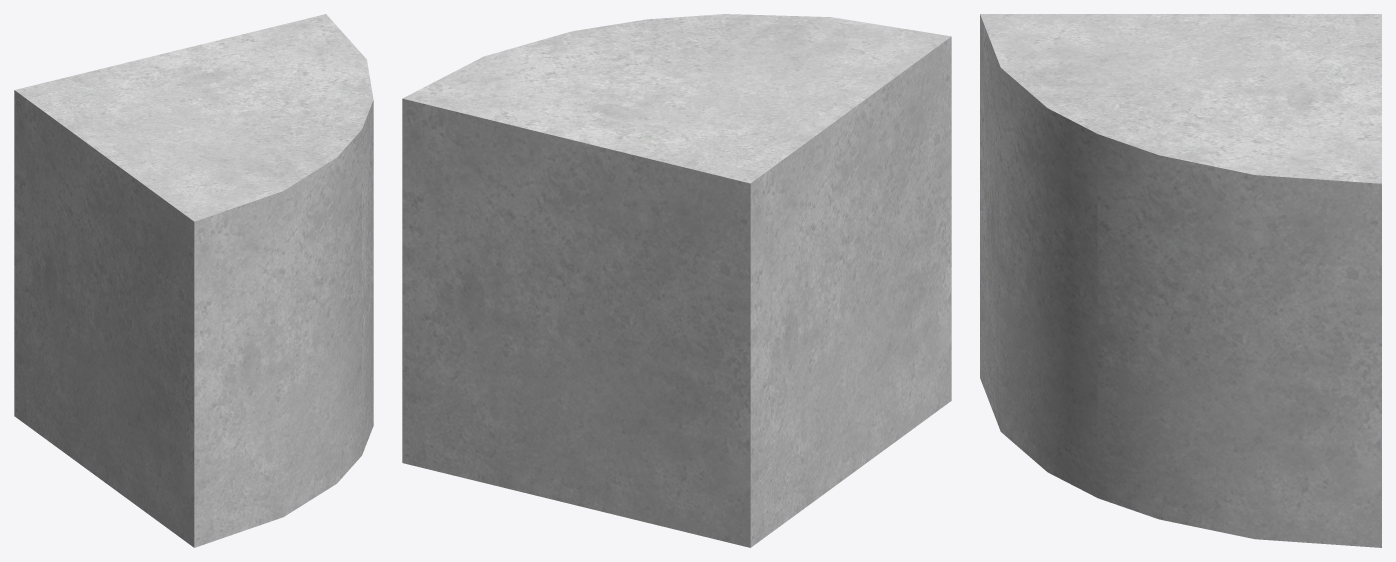
Rendered from roundwedge.obj.
The picture shows the model from 3 angles, left to right: view 1: azimuth 30°, elevation 25°; view 2: azimuth 150°, elevation 25°; view 3: azimuth 270°, elevation 25°; orthographic projection. The views are drawn at different scales.
Parts seen in each view (by area): view 1: Roundwedge1; view 2: Roundwedge1; view 3: Roundwedge1.
Part boxes in pixels (x1=…): Roundwedge1: x1=14, y1=14, x2=373, y2=547; Roundwedge1: x1=402, y1=14, x2=951, y2=547; Roundwedge1: x1=980, y1=14, x2=1381, y2=547.
Size of the model in its own units: 2 by 2 by 2.
Materials: 1 (1 with a texture image).
